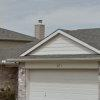Chimney: (30, 13, 45, 51)
